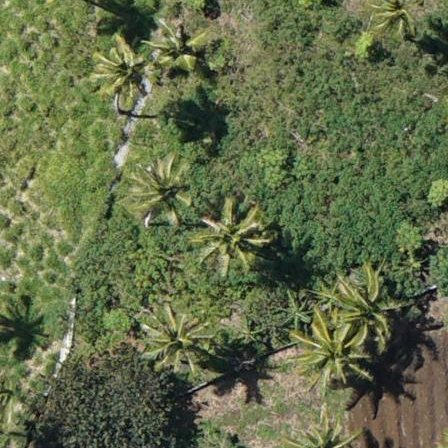palm_tree: (190, 193, 267, 275), (323, 269, 403, 345), (124, 151, 197, 229), (294, 316, 366, 392), (138, 301, 208, 376), (85, 32, 150, 101), (147, 19, 210, 69), (283, 420, 352, 448)
